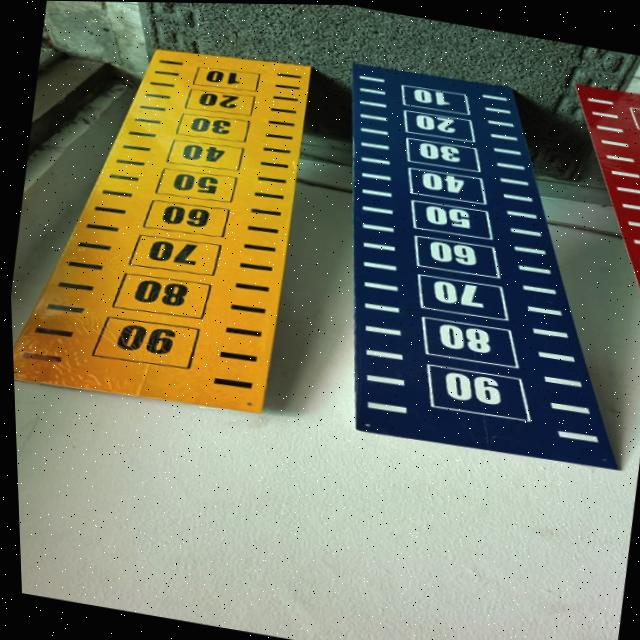water-meter: (268, 45, 640, 491), (0, 13, 347, 439)
